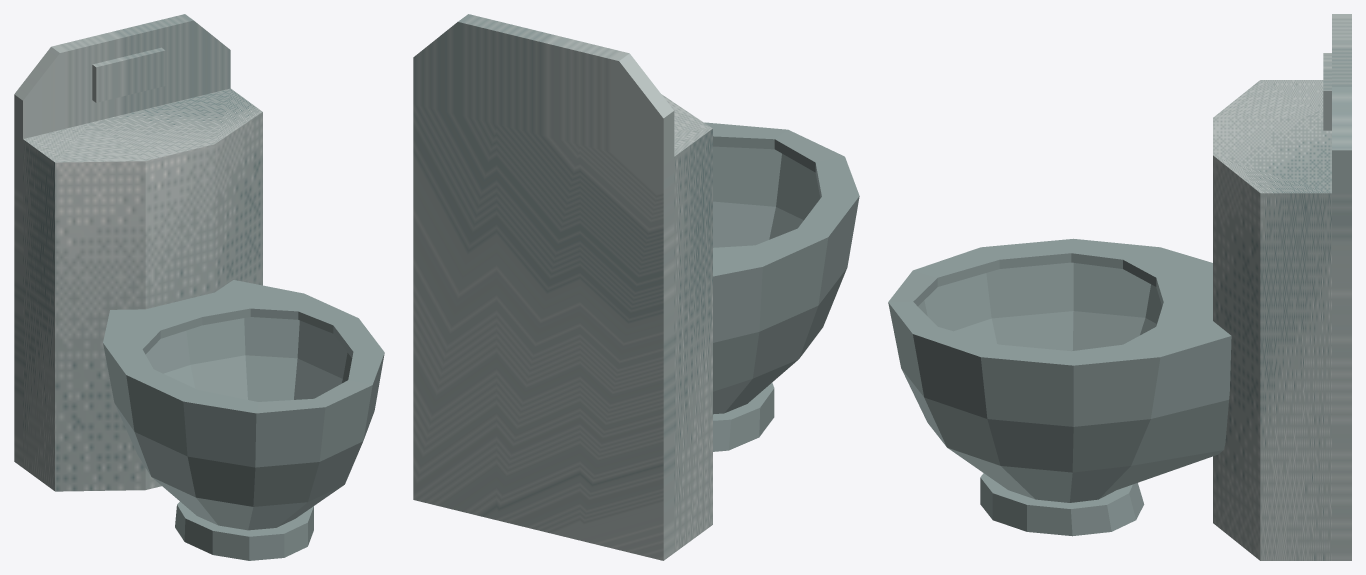
Rendered from toilet.glb.
3 renders of one model, left to right at view 1: azimuth 30°, elevation 25°; view 2: azimuth 150°, elevation 25°; view 3: azimuth 270°, elevation 25°, orthographic. The views are drawn at different scales.
Parts seen in each view (by area): view 1: Circle; view 2: Circle; view 3: Circle.
Boxes of the visible parts, x1,y1,x2,y2 form: Circle: (14,14,384,560); Circle: (413,14,859,560); Circle: (888,14,1351,560).
Size of the model in its own units: 1.46 by 2.43 by 2.25.
3 materials, 2 textured.
